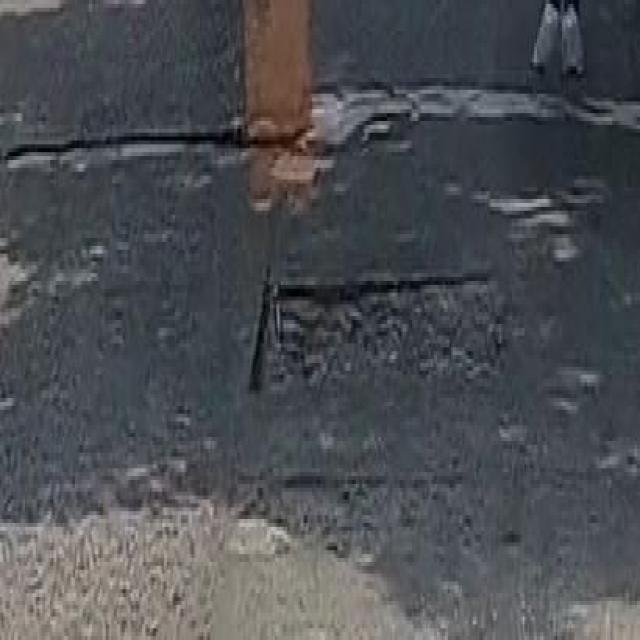Pothole: (248, 267, 511, 405)
